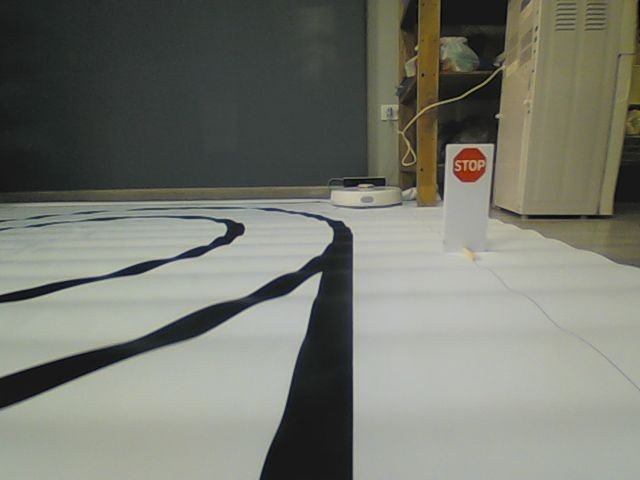Stop: (449, 145, 490, 184)
